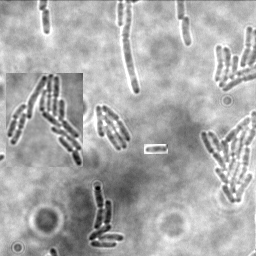Dividing: (123, 1, 142, 95), (41, 8, 52, 35), (144, 144, 168, 154)
Microcolony: (6, 73, 83, 167), (200, 109, 255, 205), (212, 25, 255, 94), (89, 184, 126, 248), (96, 103, 132, 150), (182, 16, 193, 48)
